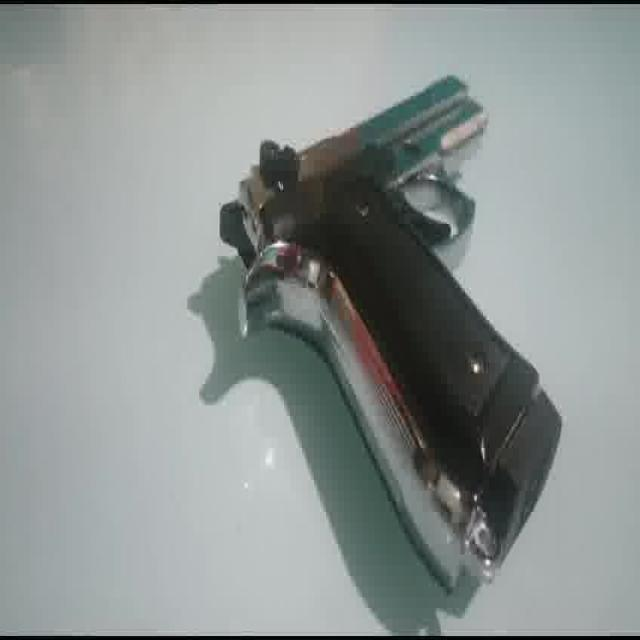weapon: (218, 71, 563, 594)
